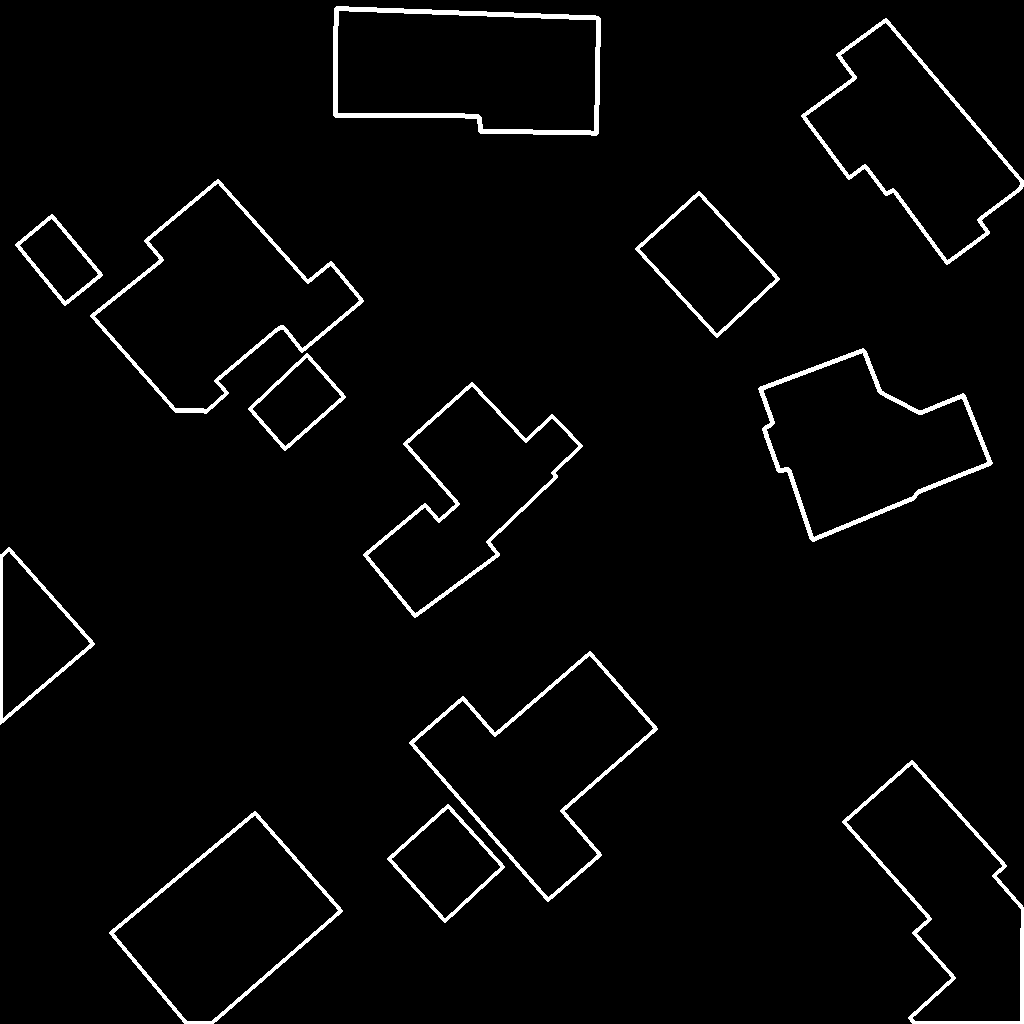building: (92, 181, 363, 412), (411, 653, 657, 901), (803, 20, 1024, 264), (365, 384, 582, 617), (111, 813, 342, 1024), (844, 762, 1024, 1024), (760, 350, 992, 541), (335, 8, 600, 134), (637, 193, 779, 337), (0, 549, 94, 724), (389, 806, 504, 922), (250, 355, 345, 450), (17, 216, 102, 305)
